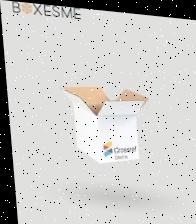cube: (72, 105, 141, 166)
